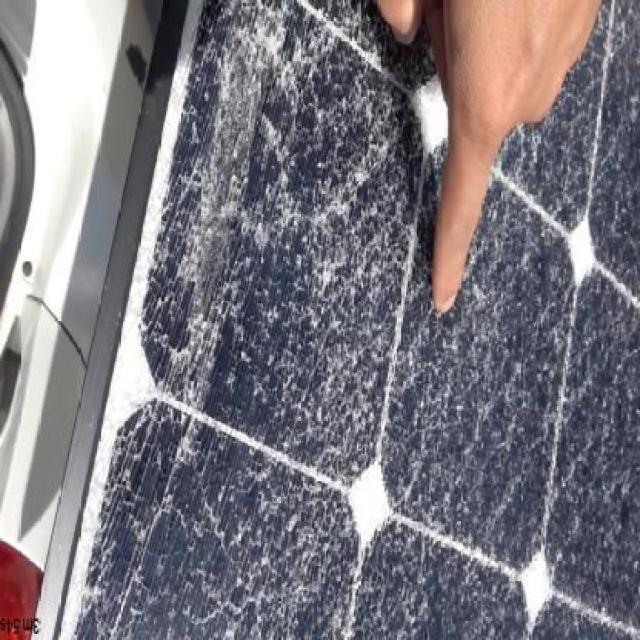cracked: (129, 1, 637, 637)
